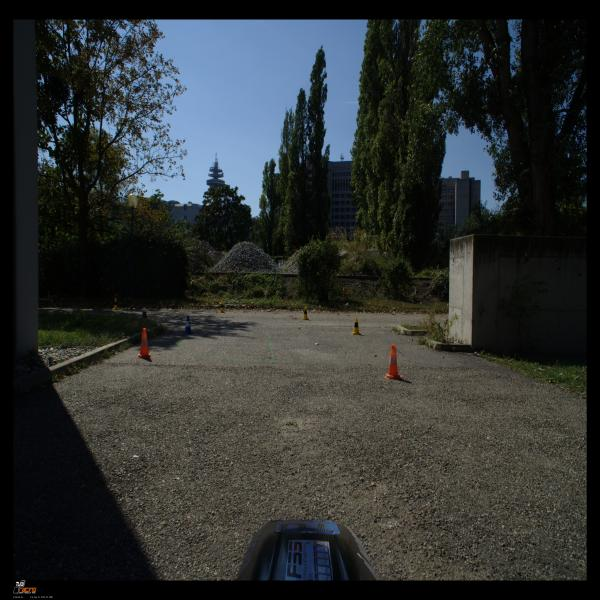blue_cone: (182, 316, 195, 335), (140, 311, 148, 319)
orange_cone: (384, 344, 402, 380), (138, 328, 152, 359)
yellow_cone: (351, 317, 362, 335), (301, 306, 310, 320), (218, 300, 226, 313), (112, 298, 120, 310)
